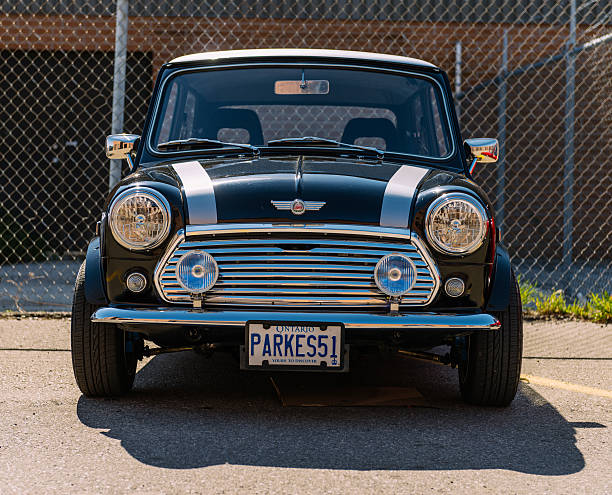licence: (242, 318, 349, 373)
